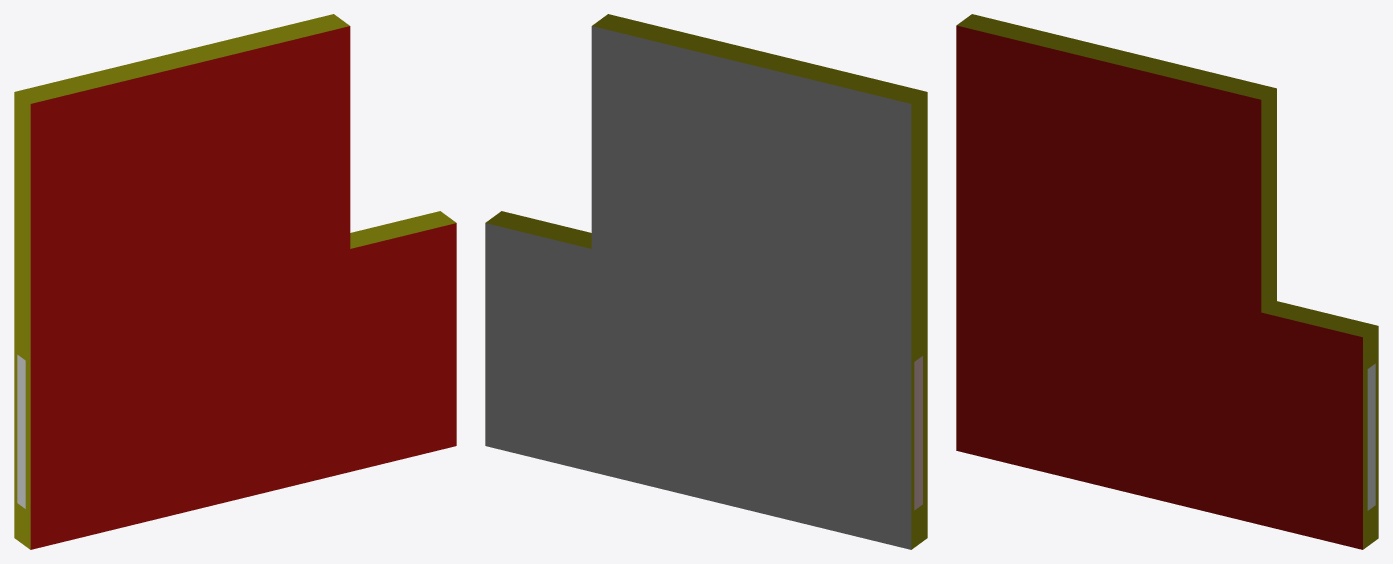
File: idf.obj
The picture shows the model from 3 angles, left to right: view 1: azimuth 30°, elevation 25°; view 2: azimuth 150°, elevation 25°; view 3: azimuth 330°, elevation 25°; orthographic projection. The views are drawn at different scales.
Size of the model in its own units: 60 by 60 by 4.
